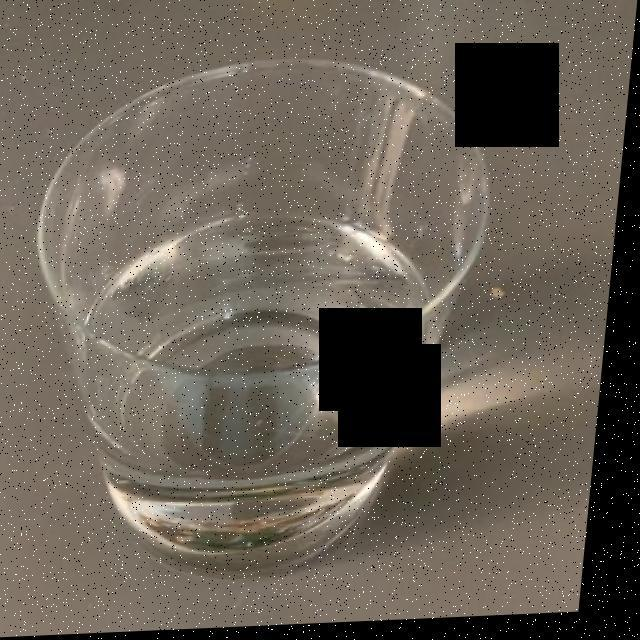water: (101, 219, 436, 551)
